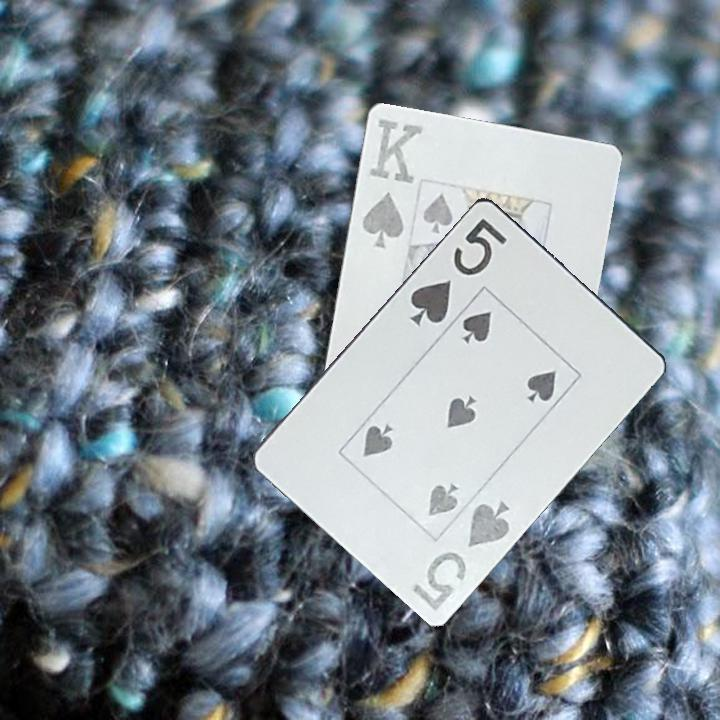5s: (409, 496, 513, 614), (406, 213, 511, 328)
Ks: (358, 115, 427, 252)
